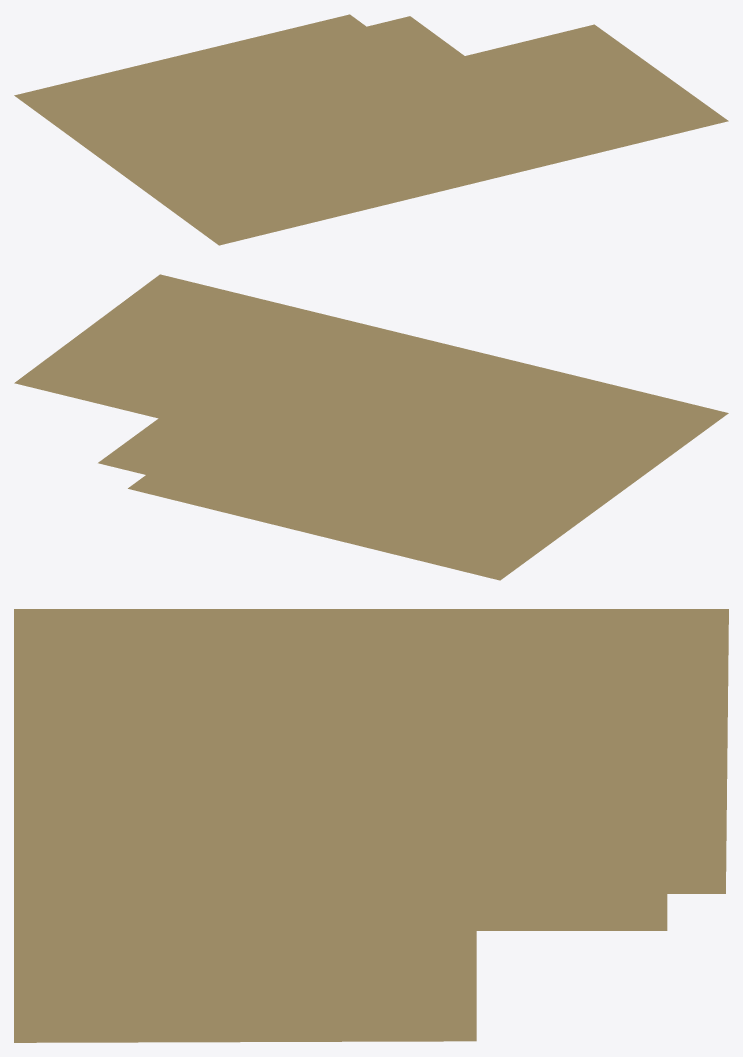
The model's file is mesh4__0dbccd6c_9a0f_084a_864c_9ca557faa1ec__0ayysbed_zg83dyv0i.glb.
3 views of the same model, one above another, from view 1: azimuth 30°, elevation 25°; view 2: azimuth 150°, elevation 25°; view 3: azimuth 270°, elevation 25° (orthographic). The views are drawn at different scales.
Visible parts, largest first — view 1: mesh4__0dbccd6c_9a0f_084a_864c_9ca557faa1ec__0ayysbed_zg83dy; view 2: mesh4__0dbccd6c_9a0f_084a_864c_9ca557faa1ec__0ayysbed_zg83dy; view 3: mesh4__0dbccd6c_9a0f_084a_864c_9ca557faa1ec__0ayysbed_zg83dy.
Boxes of the visible parts, x1=… form: mesh4__0dbccd6c_9a0f_084a_864c_9ca557faa1ec__0ayysbed_zg83dy: x1=14, y1=14, x2=728, y2=245; mesh4__0dbccd6c_9a0f_084a_864c_9ca557faa1ec__0ayysbed_zg83dy: x1=14, y1=274, x2=728, y2=580; mesh4__0dbccd6c_9a0f_084a_864c_9ca557faa1ec__0ayysbed_zg83dy: x1=14, y1=609, x2=728, y2=1042.
Size of the model in its own units: 62.33 by 0 by 43.42.
